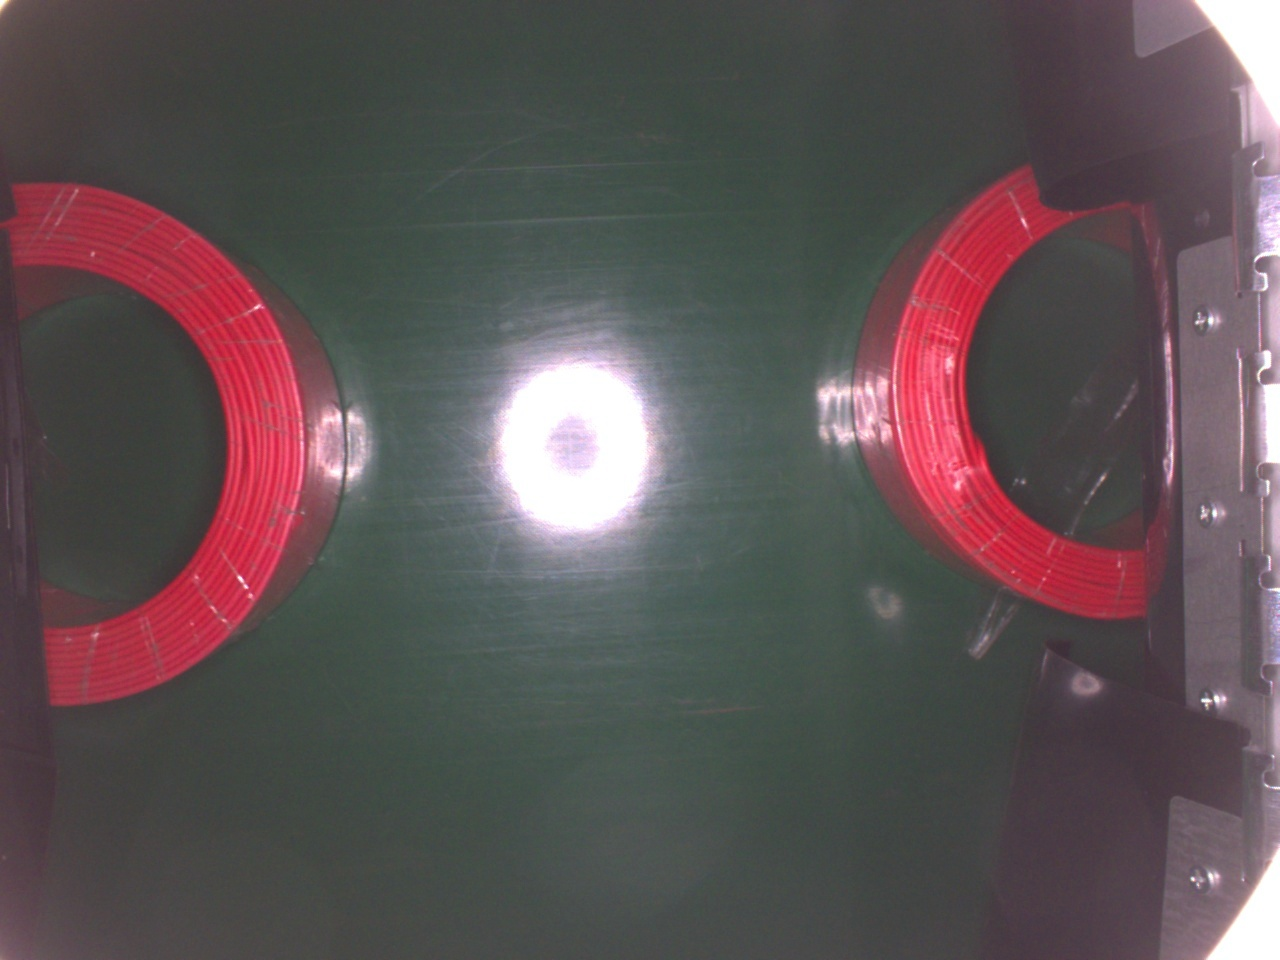red: (0, 179, 346, 710), (850, 160, 1155, 622)
